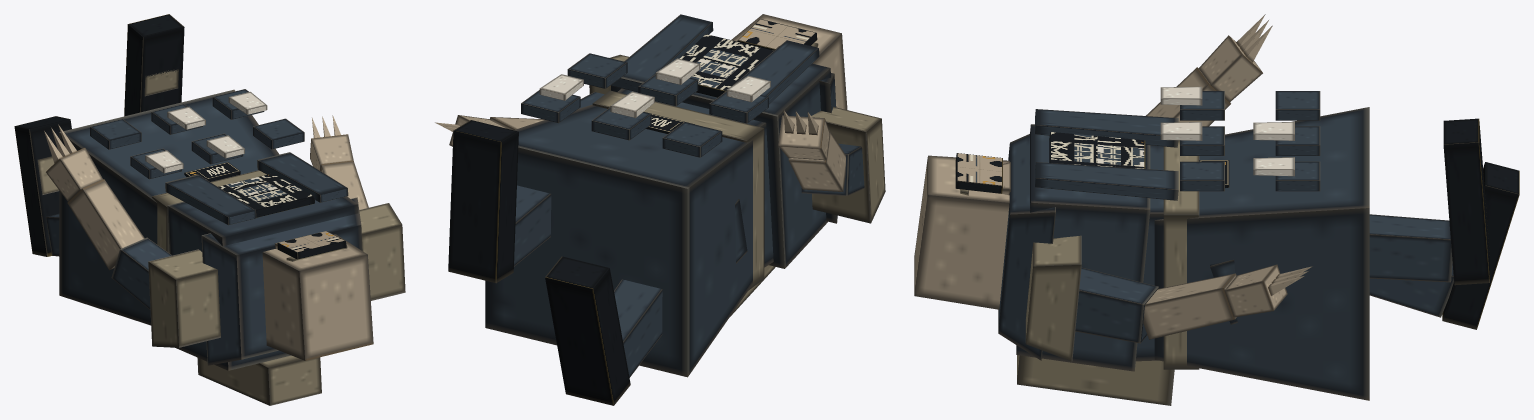
Rendered from consenth_move.obj.
The picture shows the model from 3 angles, left to right: view 1: azimuth 30°, elevation 25°; view 2: azimuth 150°, elevation 25°; view 3: azimuth 270°, elevation 25°; orthographic projection. The views are drawn at different scales.
Parts seen in each view (by area): view 1: consenth_move; view 2: consenth_move; view 3: consenth_move.
Boxes of the visible parts, <box> form: consenth_move: <box>14,14,405,405</box>; consenth_move: <box>435,14,885,405</box>; consenth_move: <box>914,14,1519,405</box>.
Size of the model in its own units: 0.7369 by 0.5512 by 1.05.
Materials: 1 (1 with a texture image).
